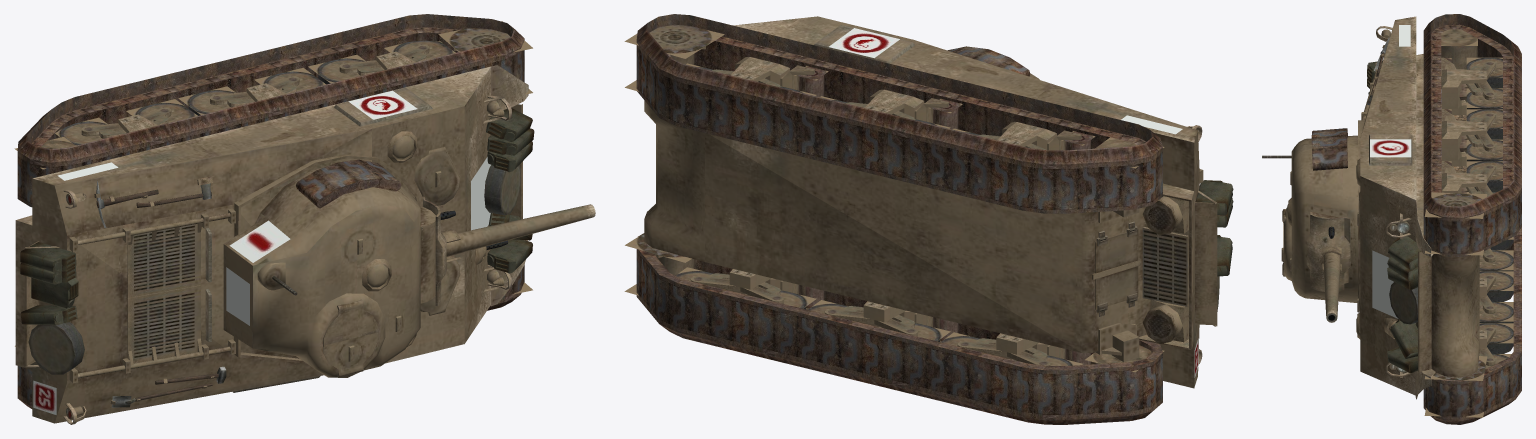
File: vehicle_american_sherman_desert.glb
3 views of the same model, side by side, from view 1: azimuth 30°, elevation 25°; view 2: azimuth 150°, elevation 25°; view 3: azimuth 270°, elevation 25° (orthographic). The views are drawn at different scales.
Bounding box in the file's own units: 241 × 115 × 124.
6 materials, 6 textured.
